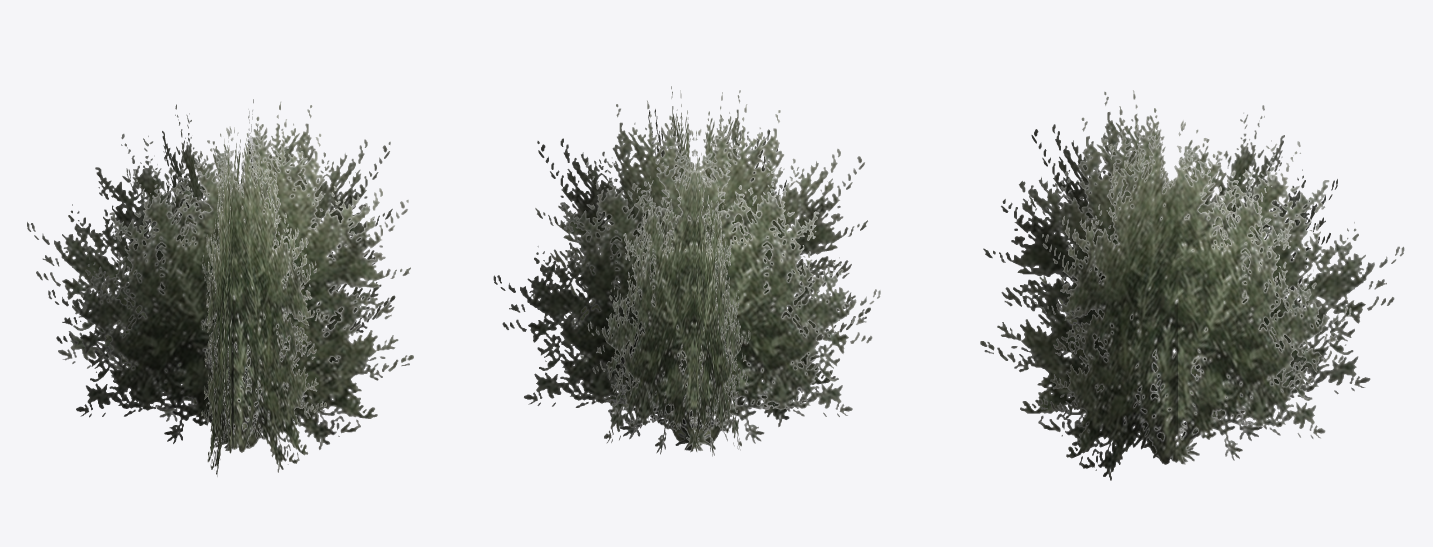
The model's file is SM_Generic_Plant_03.fbx.
3 views of the same model, side by side, from view 1: azimuth 30°, elevation 25°; view 2: azimuth 150°, elevation 25°; view 3: azimuth 270°, elevation 25° (orthographic). The views are drawn at different scales.
Parts seen in each view (by area): view 1: SM_Generic_Plant_03_LOD0; view 2: SM_Generic_Plant_03_LOD0; view 3: SM_Generic_Plant_03_LOD0.
Boxes of the visible parts, x1,y1,x2,y2 form: SM_Generic_Plant_03_LOD0: (27, 99, 413, 476); SM_Generic_Plant_03_LOD0: (493, 86, 880, 456); SM_Generic_Plant_03_LOD0: (980, 90, 1404, 480).
Size of what is drawn, in the model's own units: 0.6667 by 0.6076 by 0.6667.
